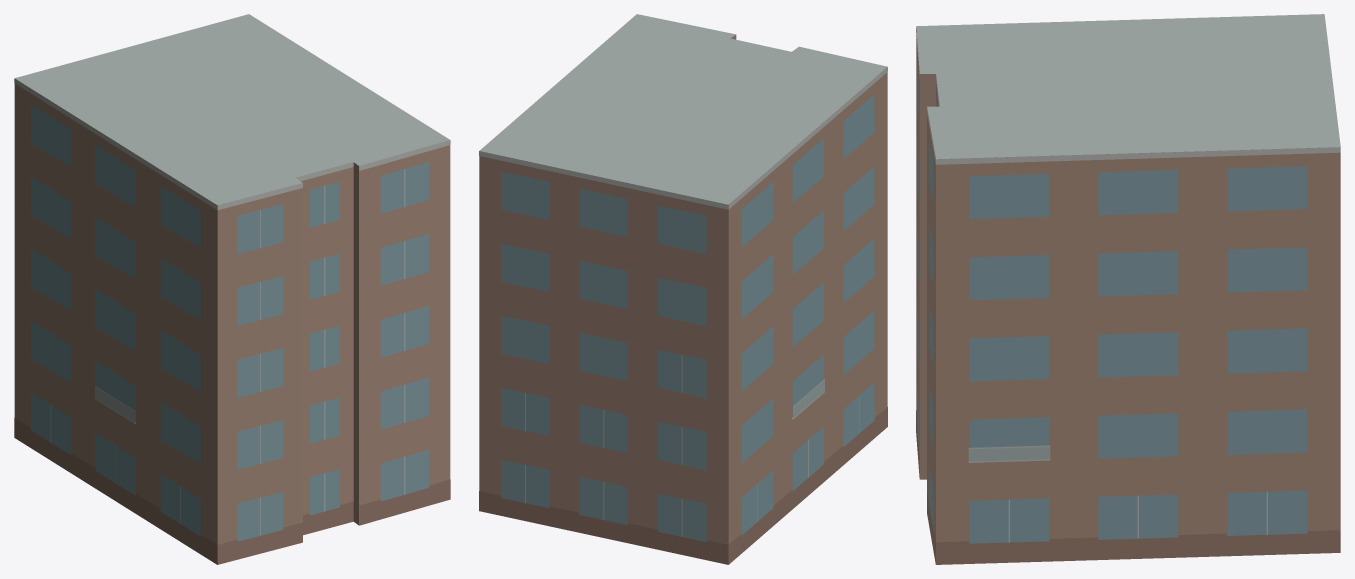
Rendered from survey-upis-32841319.glb.
The picture shows the model from 3 angles, left to right: view 1: azimuth 30°, elevation 25°; view 2: azimuth 150°, elevation 25°; view 3: azimuth 270°, elevation 25°; orthographic projection. The views are drawn at different scales.
Parts seen in each view (by area): view 1: survey-upis-32841319.tmp; view 2: survey-upis-32841319.tmp; view 3: survey-upis-32841319.tmp.
Part boxes in pixels (box(x1,y1,x2,y2)): survey-upis-32841319.tmp: box(14, 14, 450, 564); survey-upis-32841319.tmp: box(479, 14, 887, 564); survey-upis-32841319.tmp: box(916, 14, 1340, 564).
Bounding box in the file's own units: 13.54 × 17.63 × 16.73.
